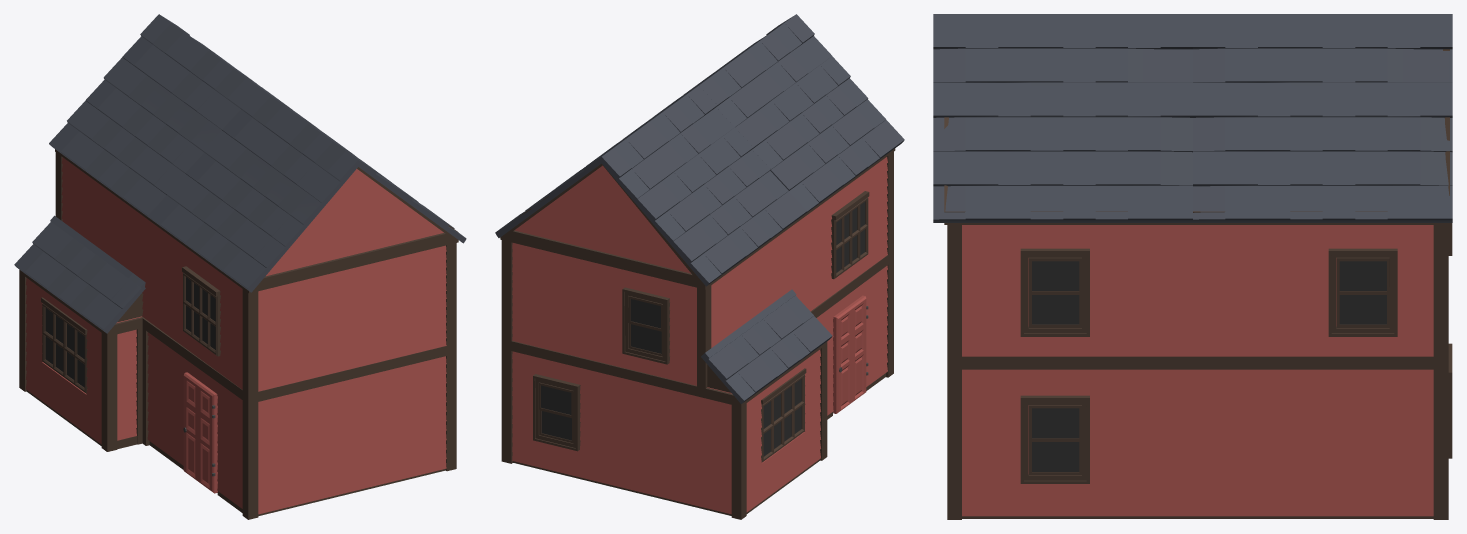
The model's file is house_small.fbx.
3 renders of one model, left to right at view 1: azimuth 30°, elevation 25°; view 2: azimuth 150°, elevation 25°; view 3: azimuth 270°, elevation 25°, orthographic. The views are drawn at different scales.
Parts seen in each view (by area): view 1: pCube27, pCube6, pCube26, pCube16, pCube13, pCube18, pCube30, pCube25, pCube33, pCube40, pCube41, door (+5 smaller); view 2: pCube5, pCube26, pCube27, pCube17, pCube18, pCube13, pCube25, pCube30, pCube40, pCube41, pCube33, door (+7 smaller); view 3: pCube4, pCube28, pCube29, pCube15, pCube13, pCube1099 (×6), pCube41, windowframe_plain28, windowframe_plain29, windowframe_plain30, windowpane (×3).
Boxes of the visible parts, x1,y1,x2,y2 form: pCube27: [148, 87, 358, 292]; pCube6: [258, 356, 446, 514]; pCube26: [49, 14, 258, 218]; pCube16: [258, 245, 446, 391]; pCube13: [19, 152, 456, 519]; pCube18: [61, 157, 242, 389]; pCube30: [14, 215, 145, 333]; pCube25: [266, 169, 443, 276]; pCube33: [147, 332, 242, 508]; pCube40: [25, 278, 101, 444]; pCube41: [26, 149, 458, 516]; door: [183, 372, 217, 493]; pCube5: [512, 351, 731, 514]; pCube26: [598, 85, 806, 286]; pCube27: [699, 14, 904, 213]; pCube17: [512, 243, 696, 385]; pCube18: [711, 157, 887, 347]; pCube13: [501, 152, 893, 519]; pCube25: [514, 165, 690, 273]; pCube30: [701, 289, 832, 403]; pCube40: [746, 349, 820, 512]; pCube41: [500, 148, 895, 515]; pCube33: [816, 265, 887, 415]; door: [833, 295, 866, 413]; pCube4: [962, 369, 1433, 516]; pCube28: [933, 14, 1192, 222]; pCube29: [1193, 14, 1452, 222]; pCube15: [962, 225, 1433, 356]; pCube13: [947, 225, 1448, 519]; pCube1099 (×6): [1032, 261, 1386, 471]; pCube41: [944, 49, 1449, 518]; windowframe_plain28: [1328, 248, 1397, 336]; windowframe_plain29: [1020, 248, 1089, 336]; windowframe_plain30: [1020, 395, 1089, 483]; windowpane (×3): [1029, 257, 1389, 441].
Bounding box in the file's own units: 6.45 × 8.19 × 8.75.
